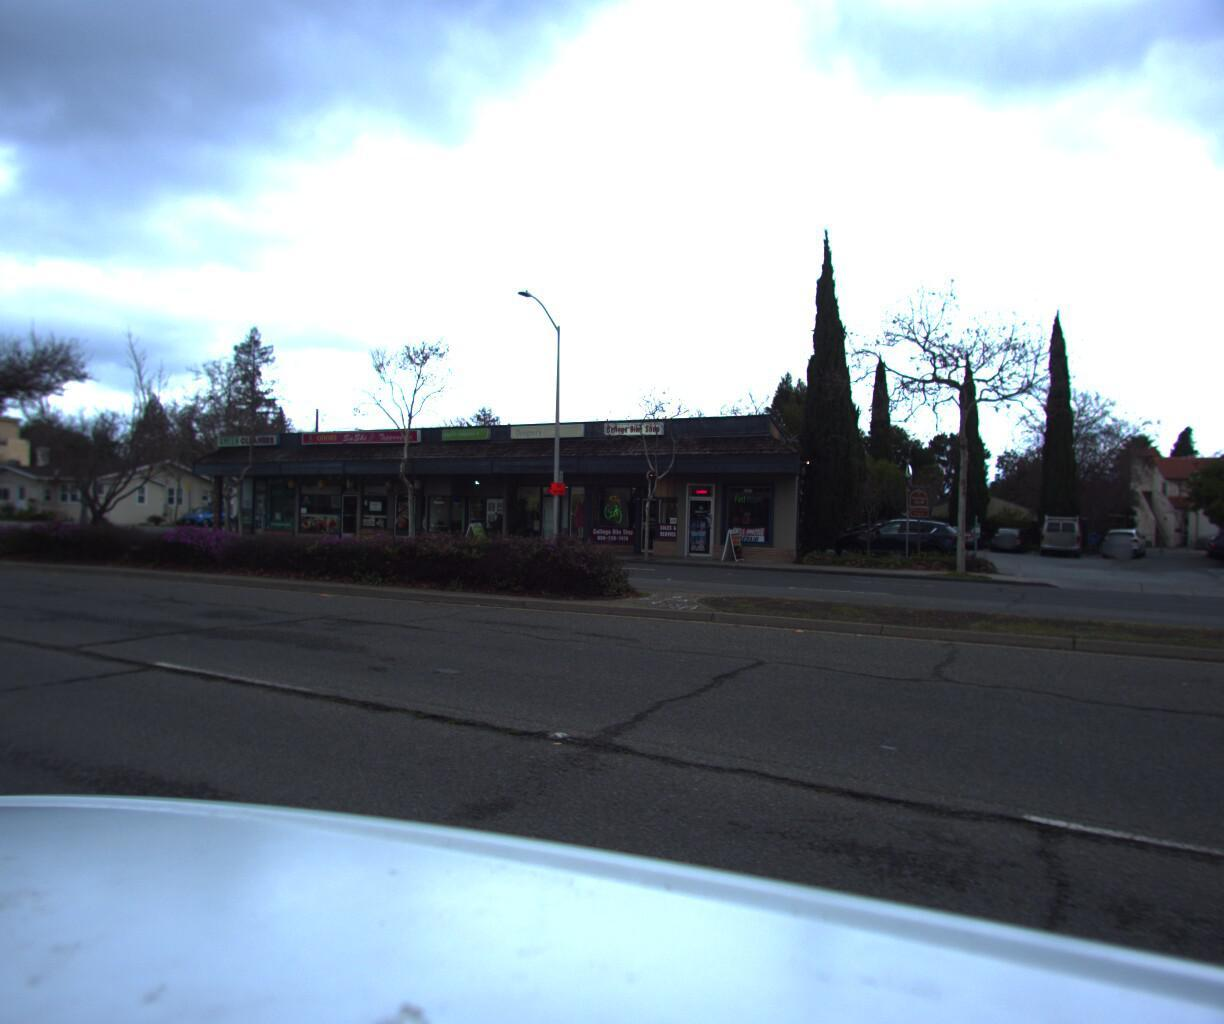car: (830, 509, 969, 565), (174, 499, 235, 524)
